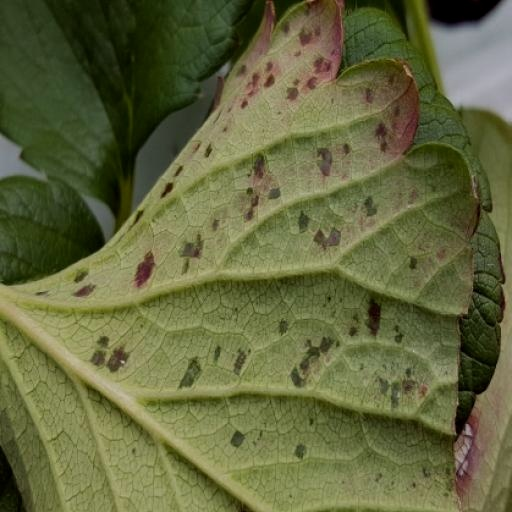Angular Leafspot: (29, 0, 483, 504), (454, 301, 511, 511)
